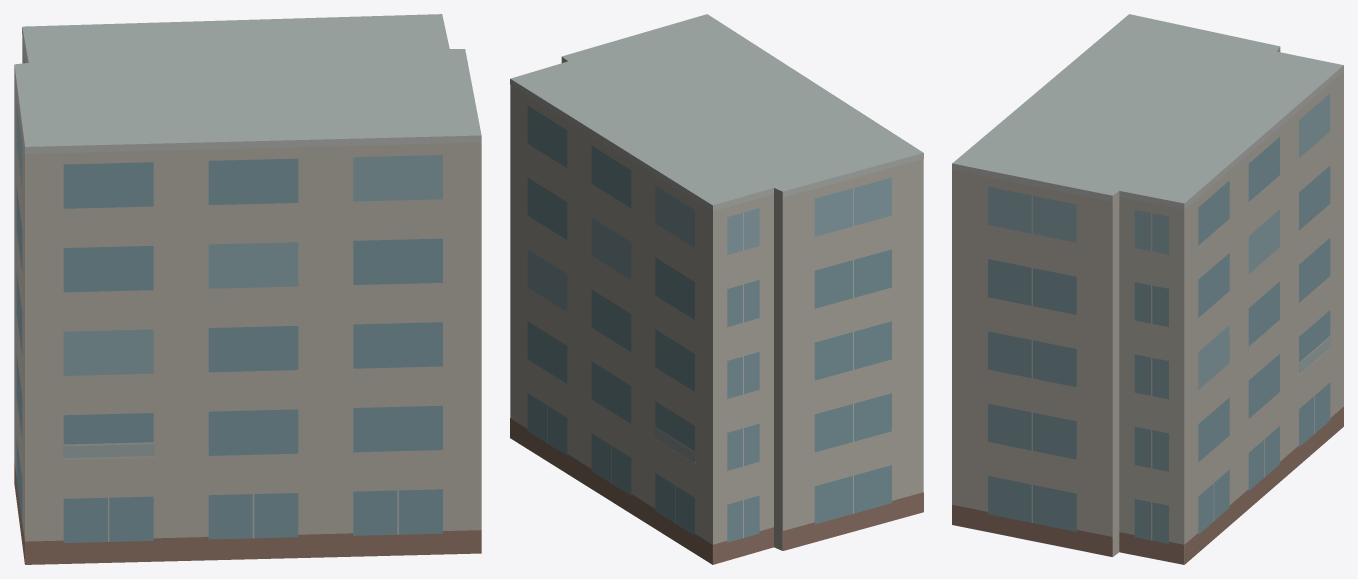
File: survey-upis-32881827.glb
The picture shows the model from 3 angles, left to right: view 1: azimuth 30°, elevation 25°; view 2: azimuth 150°, elevation 25°; view 3: azimuth 270°, elevation 25°; orthographic projection. The views are drawn at different scales.
Visible parts, largest first — view 1: survey-upis-32881827.tmp; view 2: survey-upis-32881827.tmp; view 3: survey-upis-32881827.tmp.
Boxes of the visible parts, x1=… form: survey-upis-32881827.tmp: x1=14, y1=14, x2=481, y2=564; survey-upis-32881827.tmp: x1=510, y1=14, x2=923, y2=564; survey-upis-32881827.tmp: x1=952, y1=14, x2=1343, y2=564.
Size of the model in its own units: 16.2 by 14.4 by 14.16.
